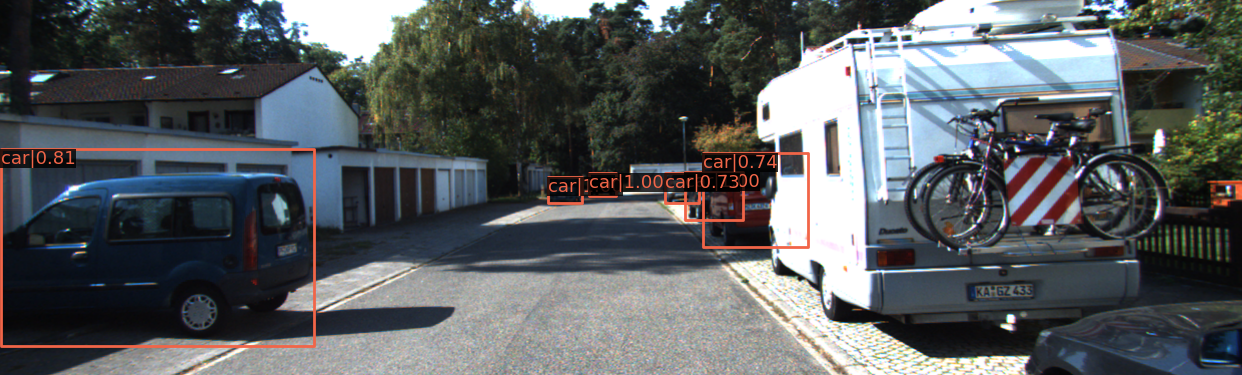car: (1, 168, 320, 334), (1029, 172, 1242, 375), (686, 168, 752, 225), (665, 171, 701, 203), (550, 178, 580, 203), (588, 174, 618, 196)
